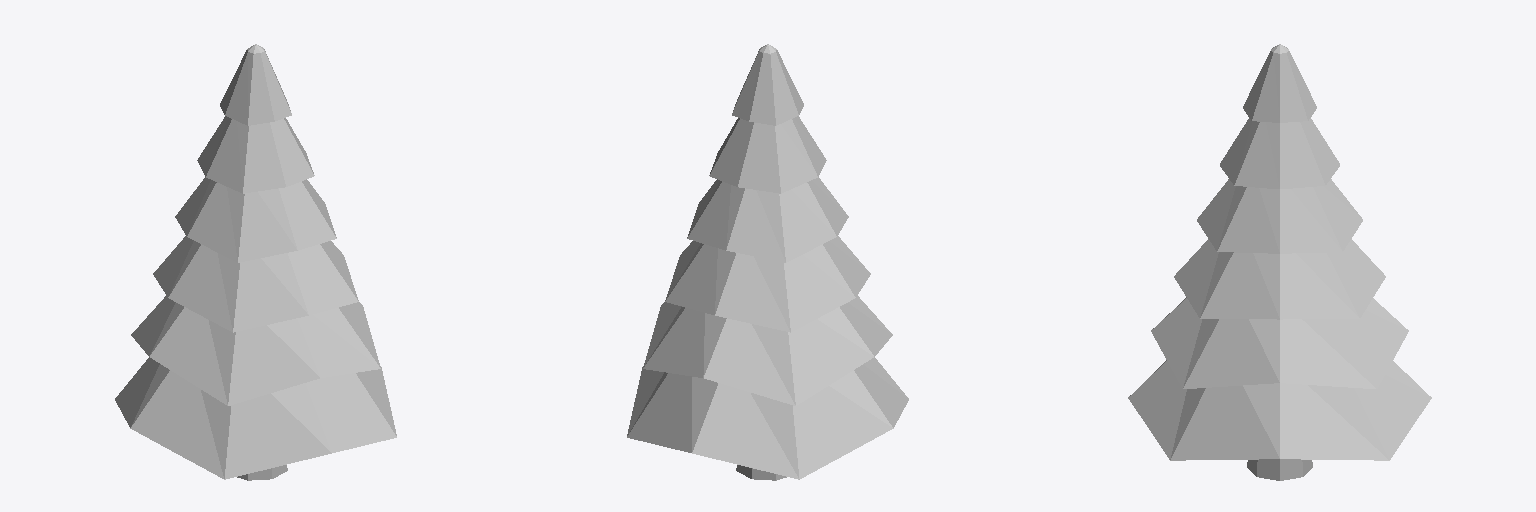
File: Tree.obj
3 views of the same model, side by side, from view 1: azimuth 30°, elevation 25°; view 2: azimuth 150°, elevation 25°; view 3: azimuth 270°, elevation 25° (orthographic).
Visible parts, largest first — view 1: Norm_PineTree_Cylinder.005; view 2: Norm_PineTree_Cylinder.005; view 3: Norm_PineTree_Cylinder.005.
Part boxes in pixels (left/top/right/bottom): Norm_PineTree_Cylinder.005: left=115, top=44, right=396, bottom=480; Norm_PineTree_Cylinder.005: left=627, top=44, right=908, bottom=480; Norm_PineTree_Cylinder.005: left=1128, top=44, right=1431, bottom=480.
Size of the model in its own units: 12.48 by 20.07 by 13.08.